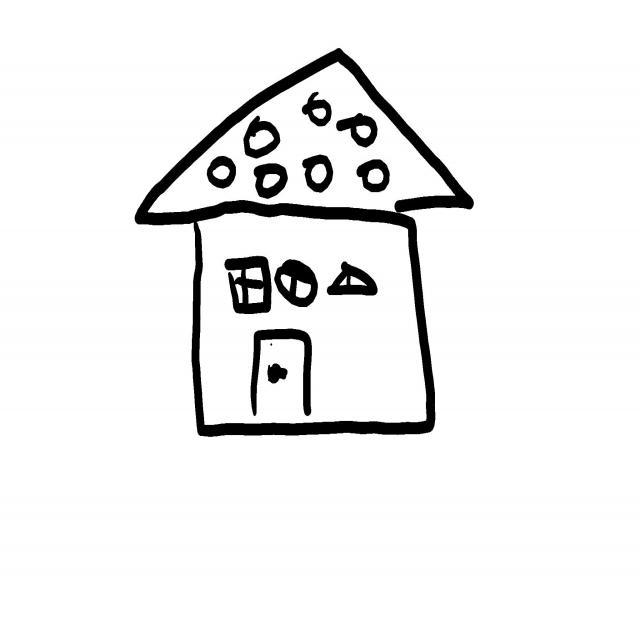door: (251, 330, 311, 420)
house: (135, 49, 474, 436)
roof: (135, 47, 478, 225)
wall: (194, 211, 432, 436)
window: (225, 256, 272, 314), (276, 260, 318, 307), (328, 262, 378, 295)
